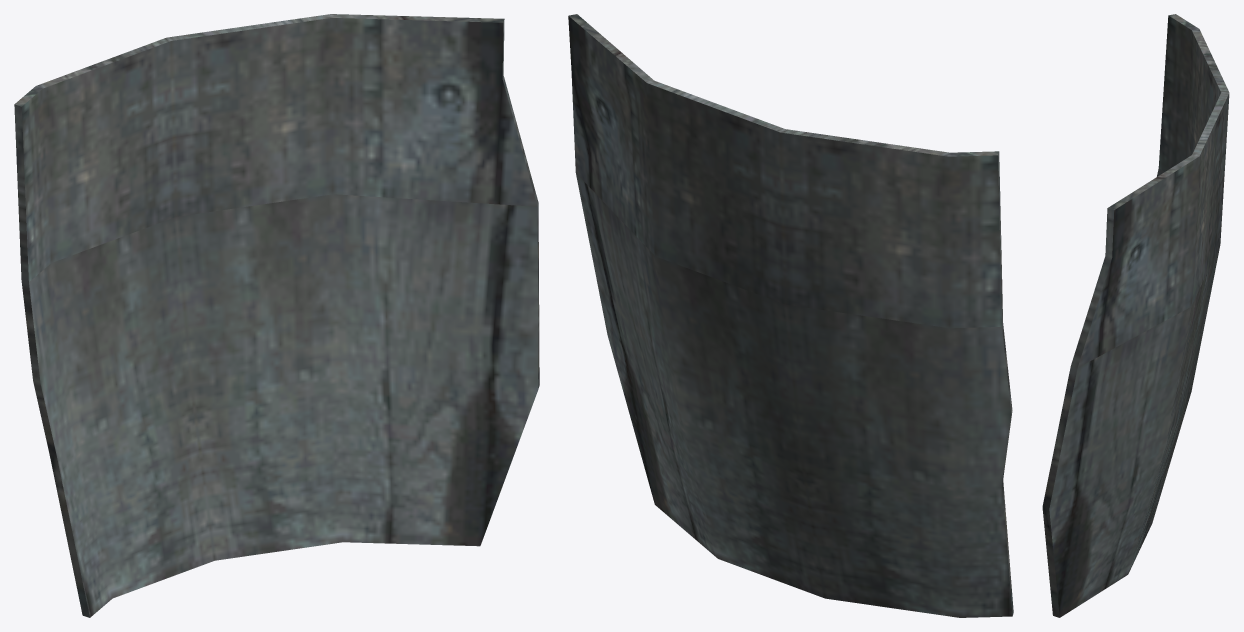
File: flower_barrel_p7.glb
3 views of the same model, side by side, from view 1: azimuth 30°, elevation 25°; view 2: azimuth 150°, elevation 25°; view 3: azimuth 270°, elevation 25° (orthographic). The views are drawn at different scales.
Parts seen in each view (by area): view 1: flower_barrel_p7; view 2: flower_barrel_p7; view 3: flower_barrel_p7.
Part boxes in pixels (bbox=[...]): flower_barrel_p7: bbox=[14, 14, 539, 617]; flower_barrel_p7: bbox=[568, 14, 1013, 617]; flower_barrel_p7: bbox=[1042, 14, 1229, 617].
Size of the model in its own units: 0.4414 by 0.439 by 0.1727.
1 material, 1 textured.
